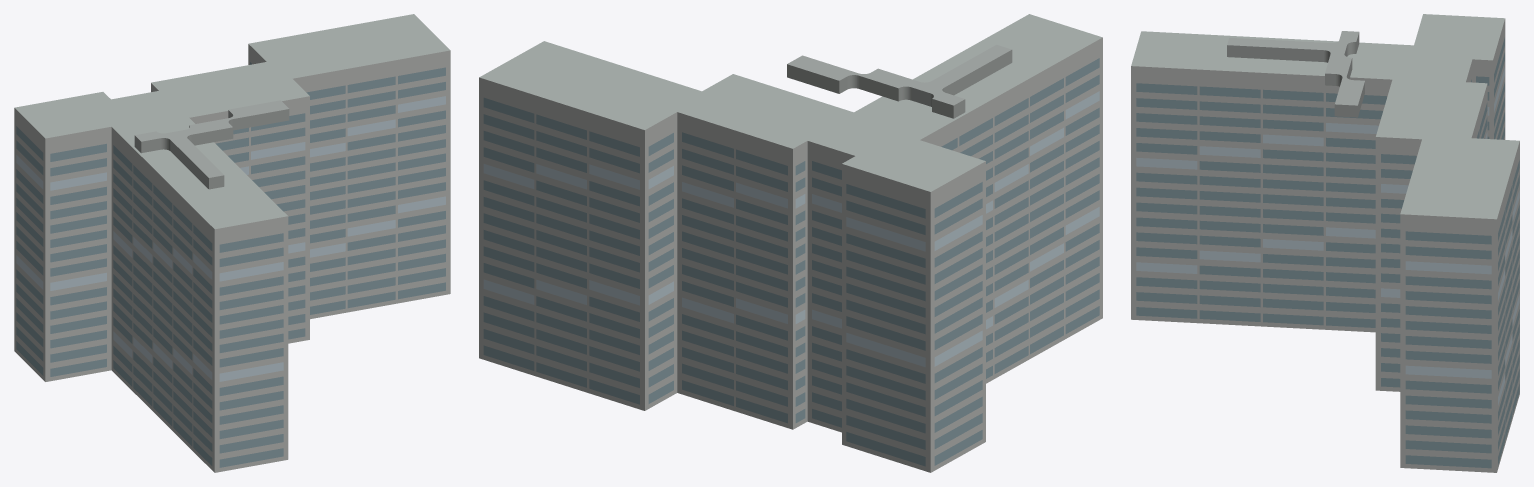
File: apt-a12289402.glb
The picture shows the model from 3 angles, left to right: view 1: azimuth 30°, elevation 25°; view 2: azimuth 150°, elevation 25°; view 3: azimuth 270°, elevation 25°; orthographic projection. The views are drawn at different scales.
Parts seen in each view (by area): view 1: apt-a12289402; view 2: apt-a12289402; view 3: apt-a12289402.
Boxes of the visible parts, x1,y1,x2,y2 form: apt-a12289402: (14, 14, 450, 472); apt-a12289402: (479, 14, 1102, 472); apt-a12289402: (1131, 14, 1519, 472).
Size of the model in its own units: 74.59 by 45 by 59.69.
